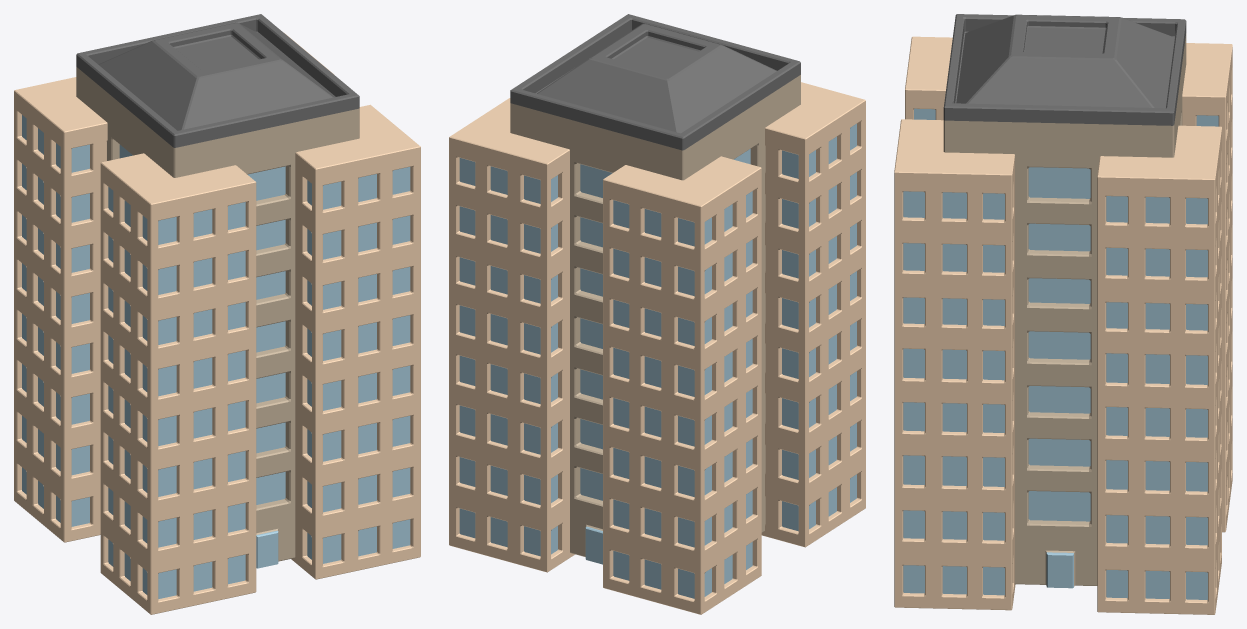
The model's file is Building_001.fbx.
3 renders of one model, left to right at view 1: azimuth 30°, elevation 25°; view 2: azimuth 150°, elevation 25°; view 3: azimuth 270°, elevation 25°, orthographic. The views are drawn at different scales.
Parts seen in each view (by area): view 1: Building_001; view 2: Building_001; view 3: Building_001.
Boxes of the visible parts, x1,y1,x2,y2 form: Building_001: [14, 14, 420, 614]; Building_001: [449, 14, 865, 614]; Building_001: [894, 14, 1232, 614].
Size of the model in its own units: 2421 by 4004 by 2421.
